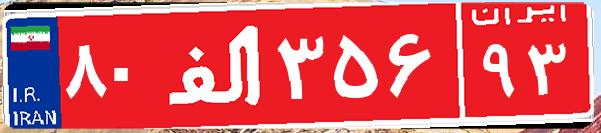0: (110, 28, 158, 105)
3: (273, 28, 330, 110), (525, 38, 570, 115)
5: (330, 28, 385, 110)
6: (385, 28, 445, 110)
8: (57, 26, 110, 107)
9: (475, 38, 525, 113)
الف: (158, 15, 273, 115)
